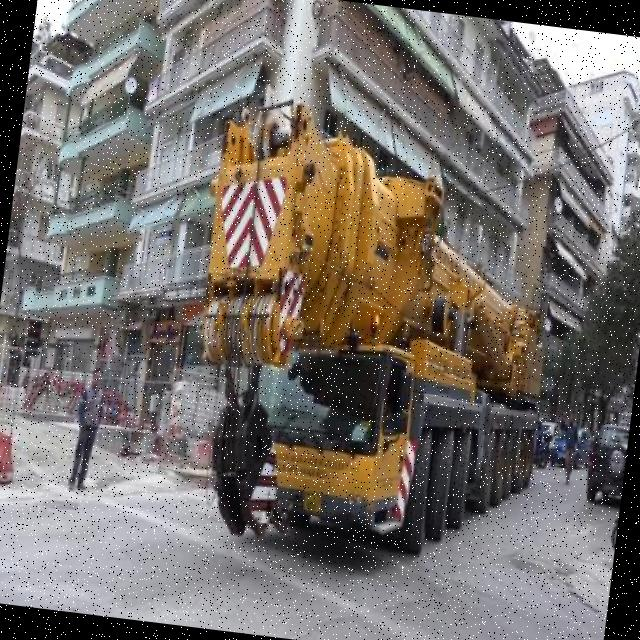Mobile Crane: (178, 99, 572, 565)
